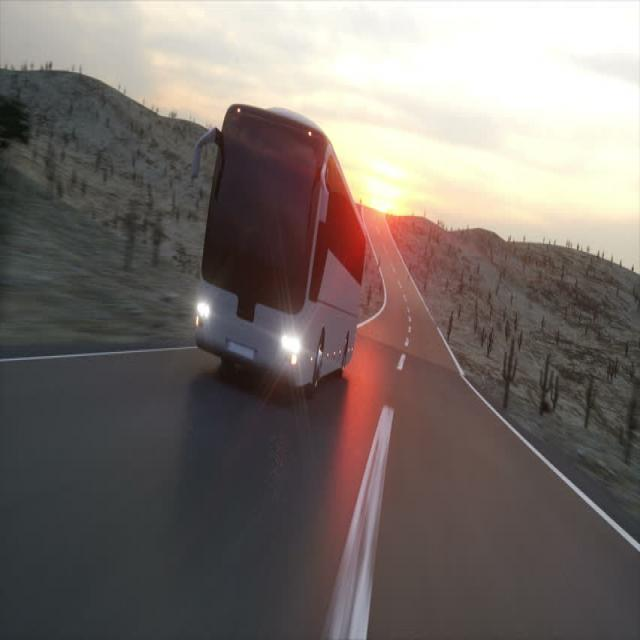BUS: (177, 80, 383, 408)
